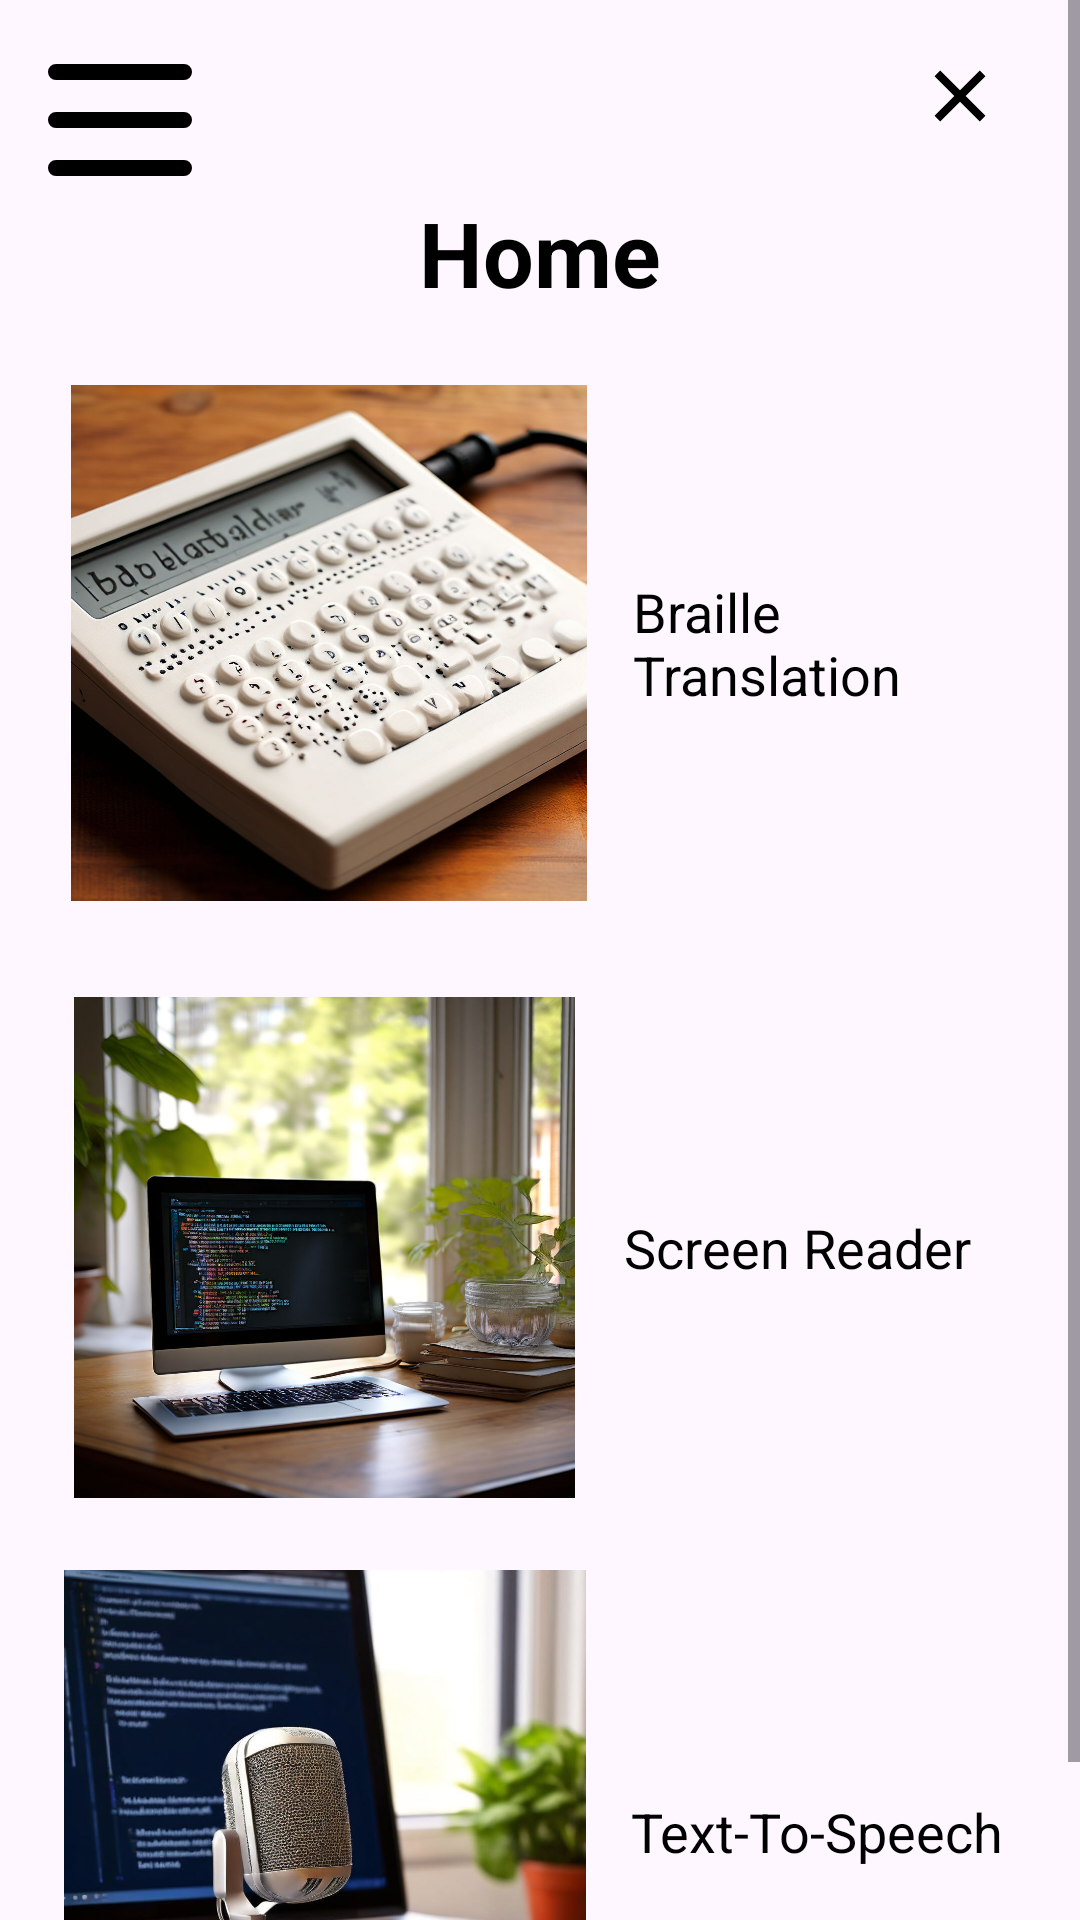

Icon click points for this 1080w x 1920h phone screenshot, format [x,y]:
menu: [120,120]
multiplication: [960,96]
